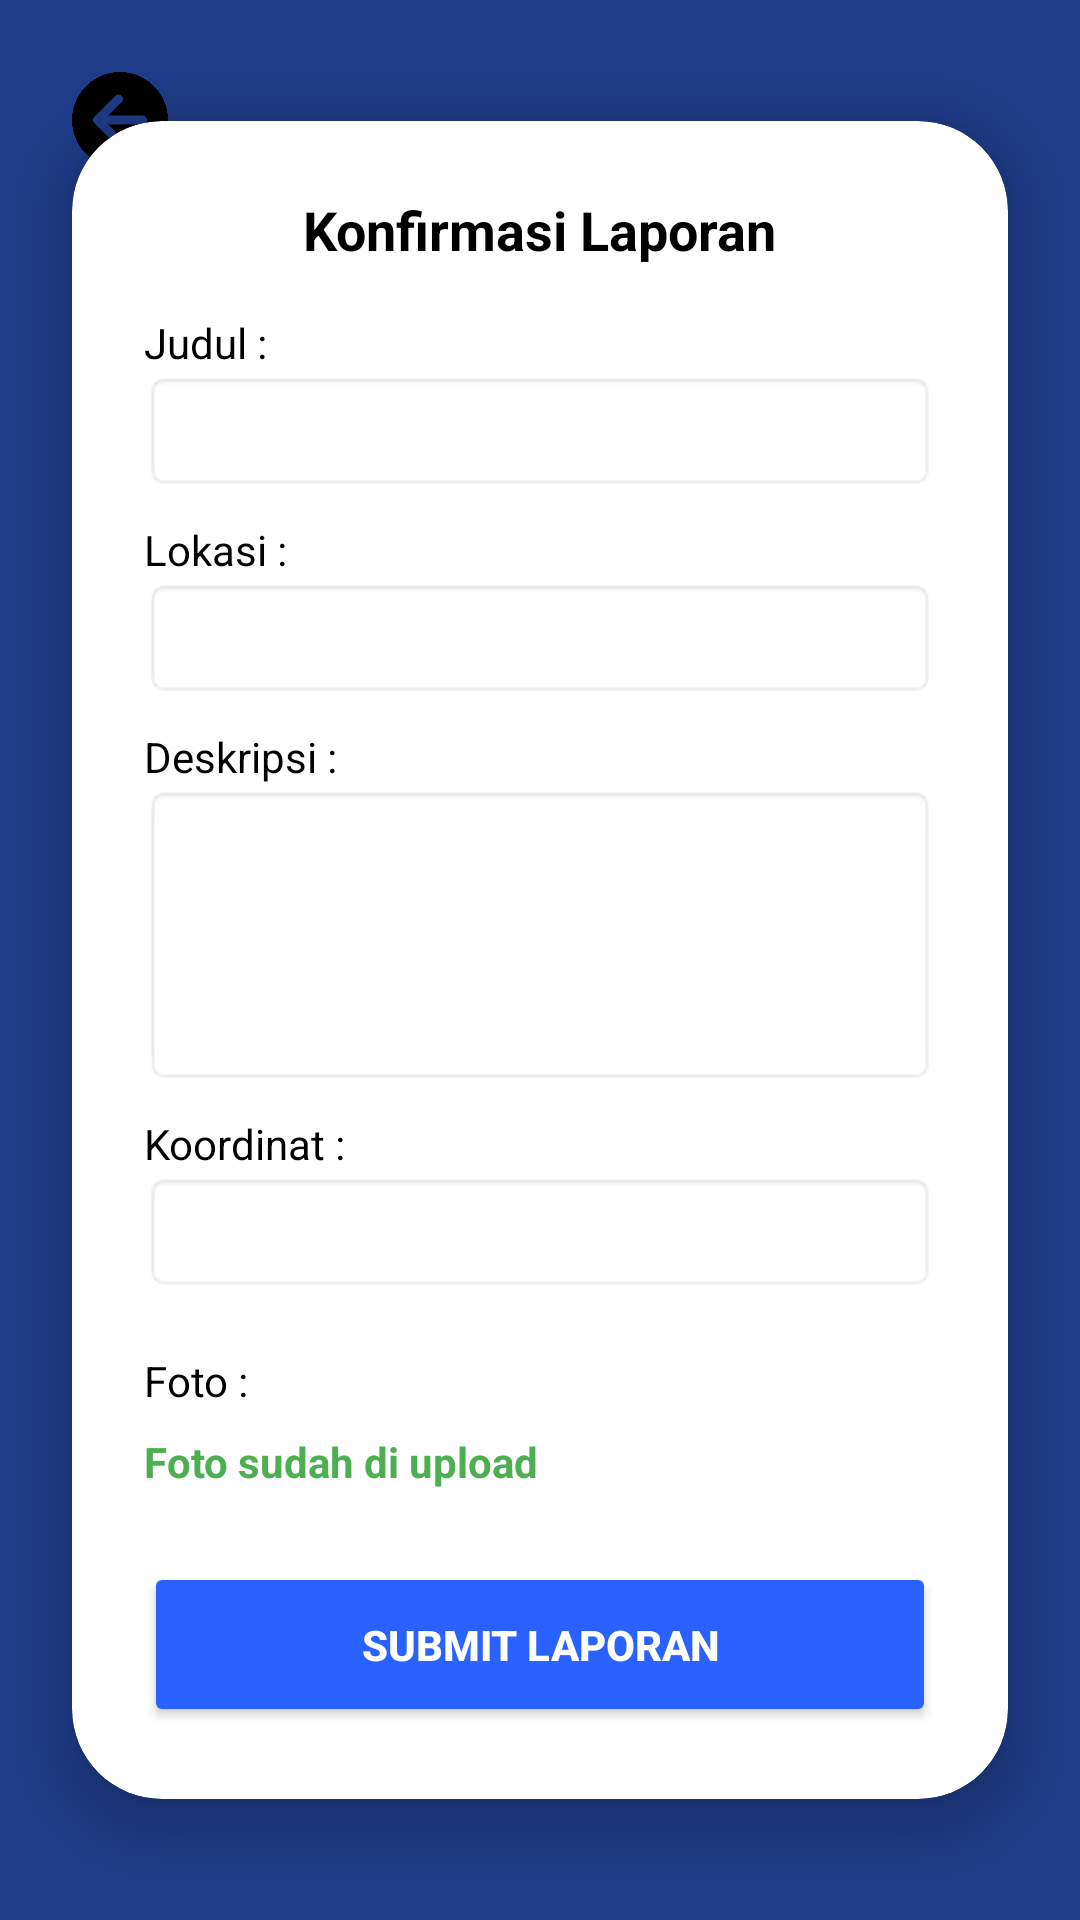

Icons on this 1080 x 1920 Android screen, each with its box as (x1, y1, x2, y2):
Back: (72, 72, 168, 168)
